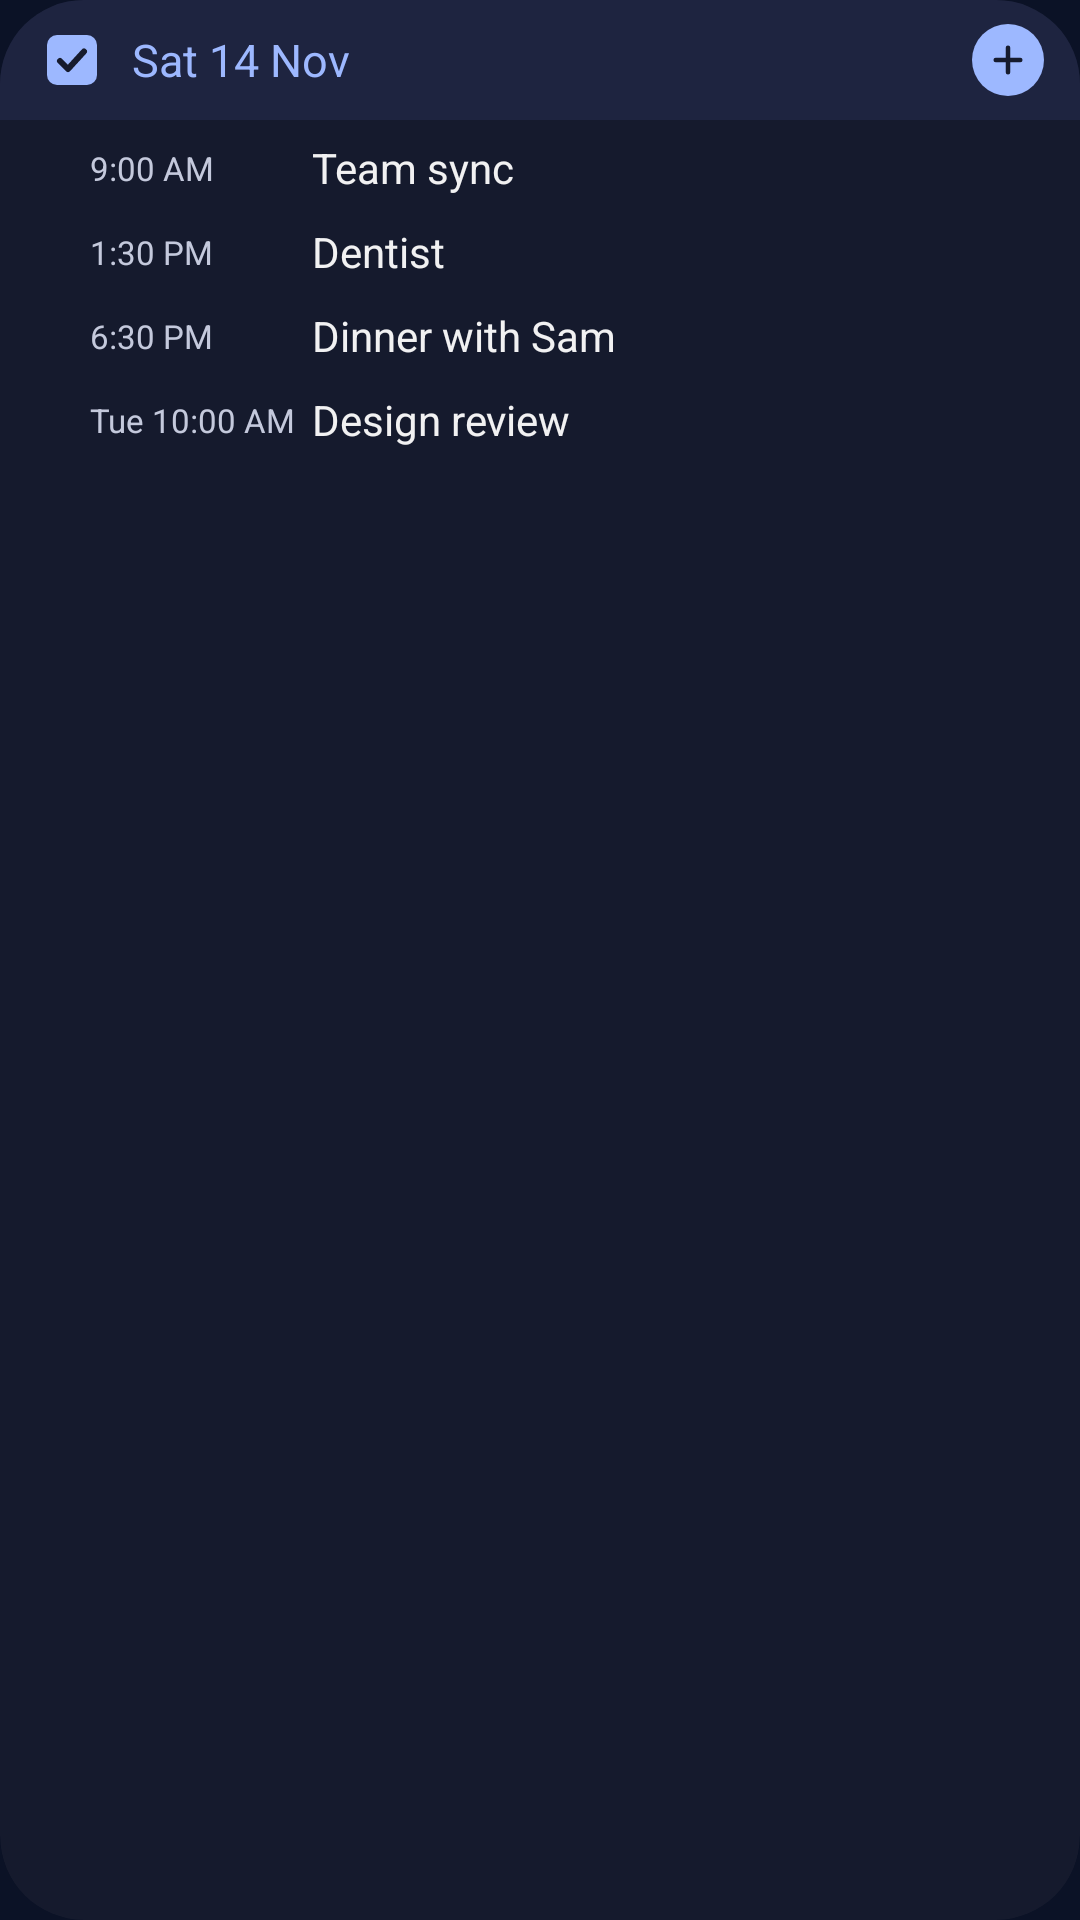

Icon bounding boxes for this 1080x1920 phone screenshot, format (x1, y1, x2, y2):
widget add: (972, 24, 1044, 96)
